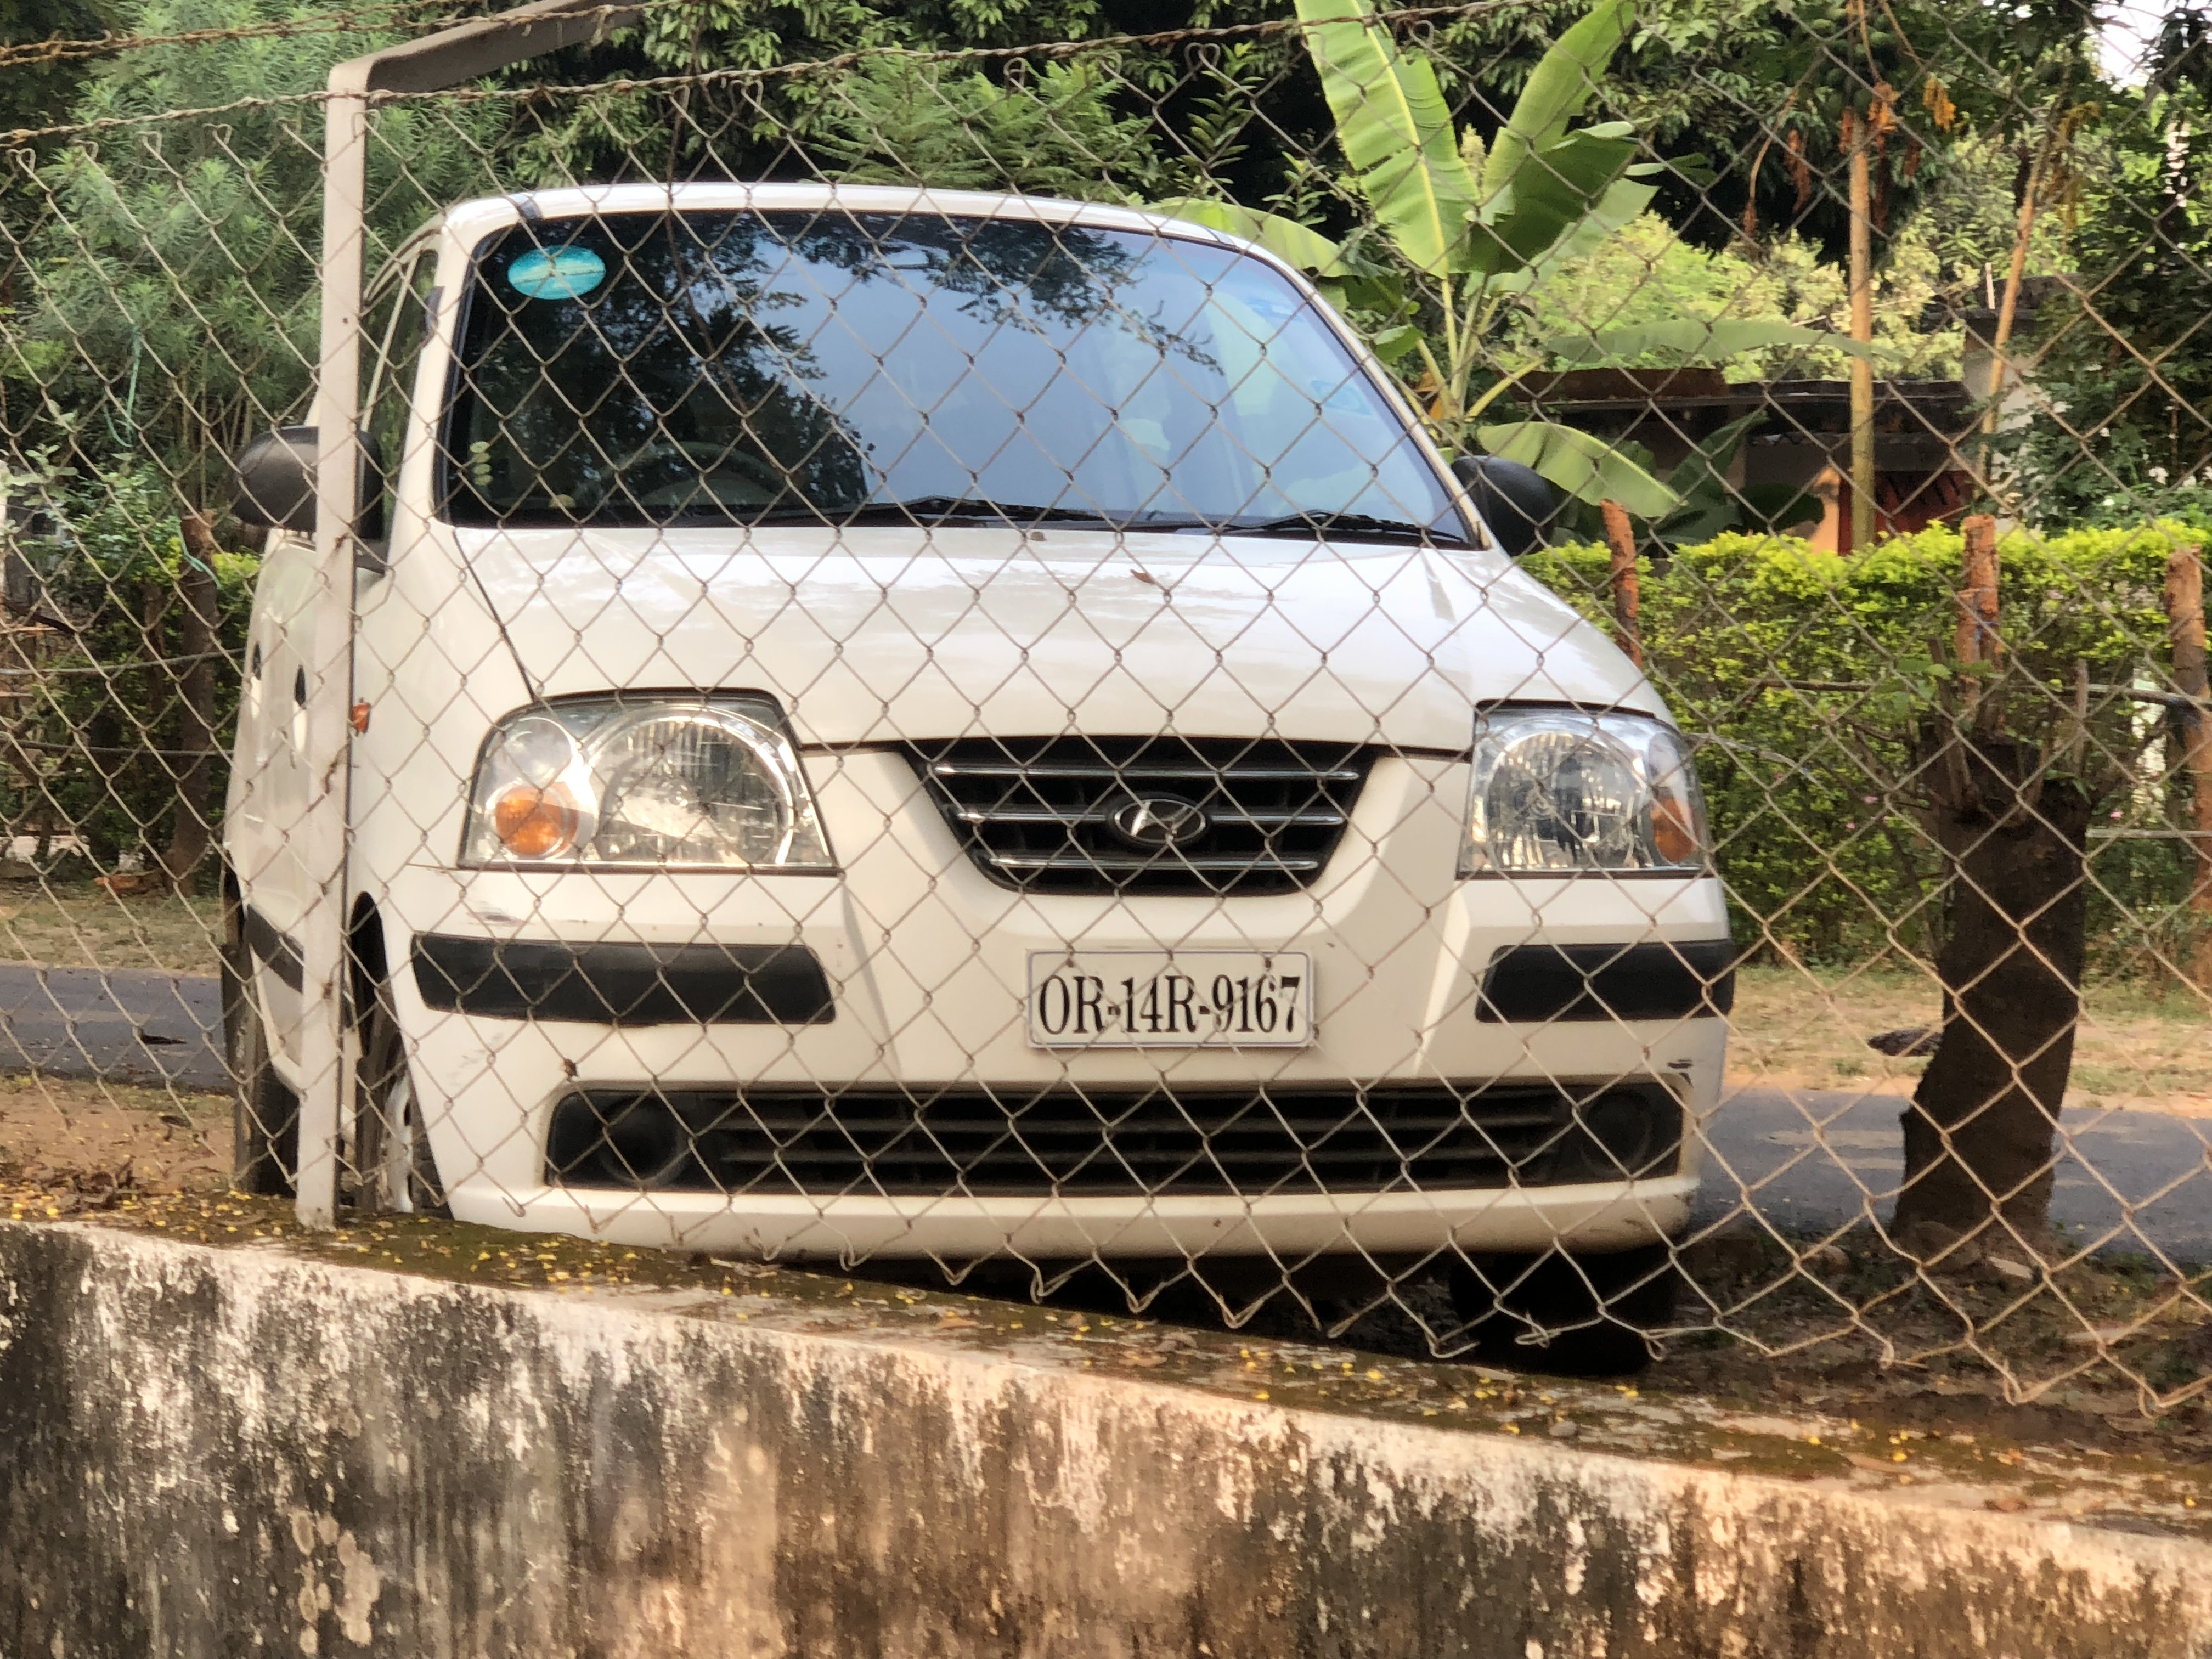licenseplate: (1020, 954, 1329, 1057)
